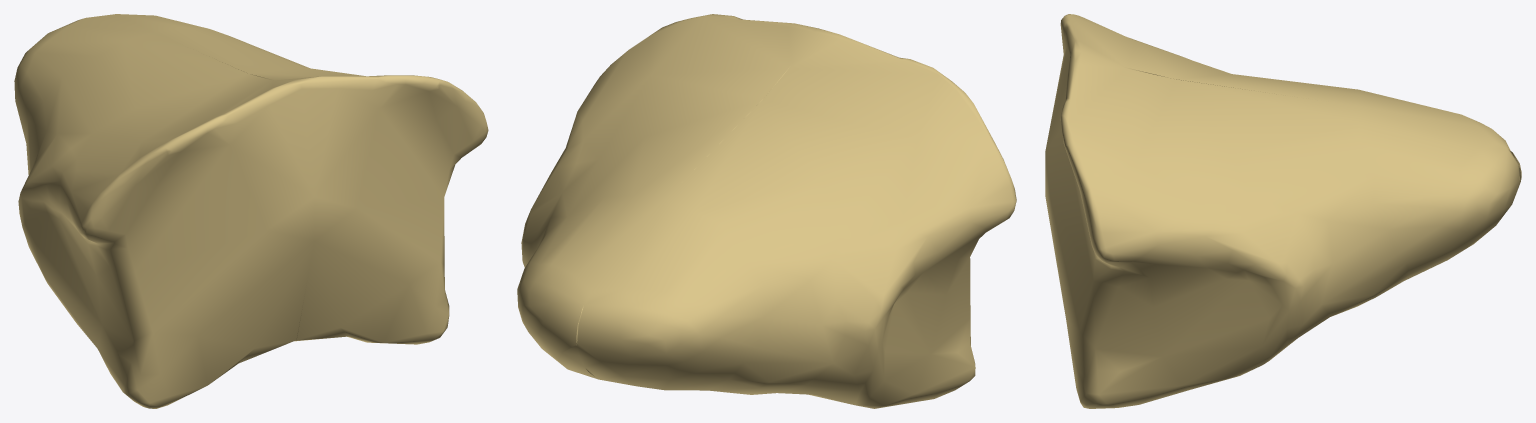
3 views of the same model, side by side, from view 1: azimuth 30°, elevation 25°; view 2: azimuth 150°, elevation 25°; view 3: azimuth 270°, elevation 25° (orthographic). The views are drawn at different scales.
Visible parts, largest first — view 1: 剑突; view 2: 剑突; view 3: 剑突.
Part boxes in pixels (x1,y1,x2,y2): 剑突: (14, 14, 488, 408); 剑突: (517, 14, 1016, 408); 剑突: (1045, 14, 1521, 408).
Size of the model in its own units: 0.032 by 0.0226 by 0.0334.
